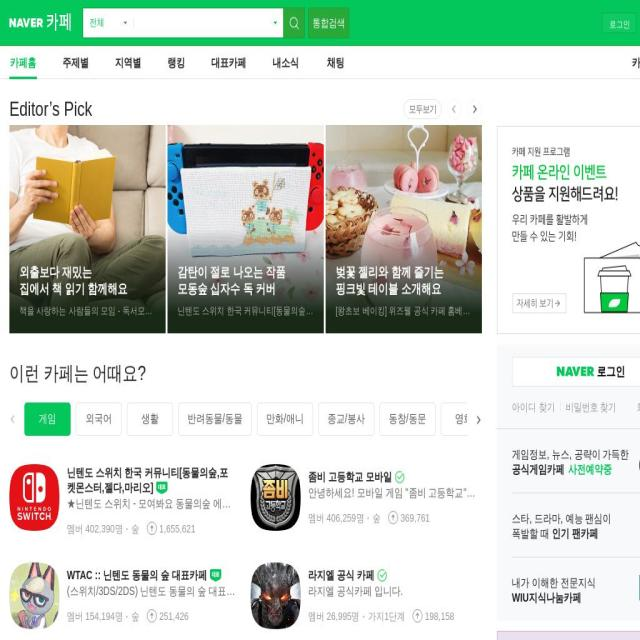button: (10, 125, 166, 333), (168, 125, 324, 333), (326, 125, 482, 333), (9, 464, 240, 538), (250, 464, 482, 531), (250, 563, 482, 629), (9, 563, 240, 629), (512, 493, 640, 558), (512, 429, 640, 493), (512, 557, 640, 621), (512, 356, 640, 386), (178, 402, 252, 436), (553, 402, 618, 436), (378, 402, 436, 436), (256, 402, 313, 436), (491, 402, 548, 436), (318, 402, 374, 436), (440, 402, 487, 436), (24, 402, 70, 436), (76, 402, 122, 436), (127, 402, 173, 436), (83, 8, 134, 38), (308, 7, 349, 38), (211, 46, 247, 79), (272, 46, 301, 79), (554, 400, 617, 415), (9, 46, 37, 79), (114, 46, 142, 79), (62, 46, 89, 79), (403, 99, 442, 119), (283, 7, 305, 38), (602, 13, 636, 32), (512, 400, 555, 415), (167, 46, 186, 79), (326, 46, 345, 79), (467, 399, 482, 440), (622, 402, 640, 436), (10, 399, 24, 439), (268, 8, 283, 38), (447, 99, 462, 119), (467, 99, 482, 119), (632, 46, 640, 79), (637, 400, 640, 415)
field: (134, 8, 268, 38)
heading: (9, 360, 482, 387), (9, 99, 482, 119), (9, 14, 44, 34), (44, 14, 70, 34)
iframe: (497, 631, 640, 640)
image: (10, 125, 166, 333), (168, 125, 324, 333), (326, 125, 482, 333), (497, 126, 640, 334), (10, 464, 60, 531), (250, 464, 300, 531), (10, 563, 60, 629), (250, 563, 300, 629), (289, 16, 299, 30), (124, 22, 127, 24), (274, 22, 277, 24)
link: (67, 466, 228, 494), (66, 496, 235, 512), (308, 486, 477, 501), (66, 584, 235, 599), (67, 568, 207, 582), (20, 304, 156, 318), (178, 304, 314, 318), (336, 304, 472, 318), (308, 584, 403, 599), (308, 470, 392, 483), (308, 568, 374, 582), (512, 591, 581, 604), (512, 462, 564, 476), (567, 462, 612, 476), (551, 527, 598, 540), (156, 480, 168, 495), (210, 568, 222, 582), (394, 469, 404, 484), (377, 568, 387, 582)
text: (20, 264, 156, 282), (178, 264, 314, 282), (336, 264, 472, 282), (20, 281, 156, 298), (178, 281, 314, 298), (336, 281, 472, 298), (512, 447, 629, 461), (512, 512, 611, 525), (512, 576, 596, 589), (308, 510, 364, 527), (67, 608, 123, 625), (67, 521, 123, 537), (308, 608, 360, 625), (272, 46, 298, 79), (366, 608, 406, 625), (602, 13, 636, 32), (512, 527, 552, 540), (158, 523, 196, 535), (409, 102, 436, 116), (400, 512, 430, 524), (159, 610, 189, 622), (424, 610, 454, 622), (39, 412, 56, 425), (371, 510, 381, 527), (130, 608, 140, 625), (130, 521, 140, 537), (90, 17, 104, 28)
